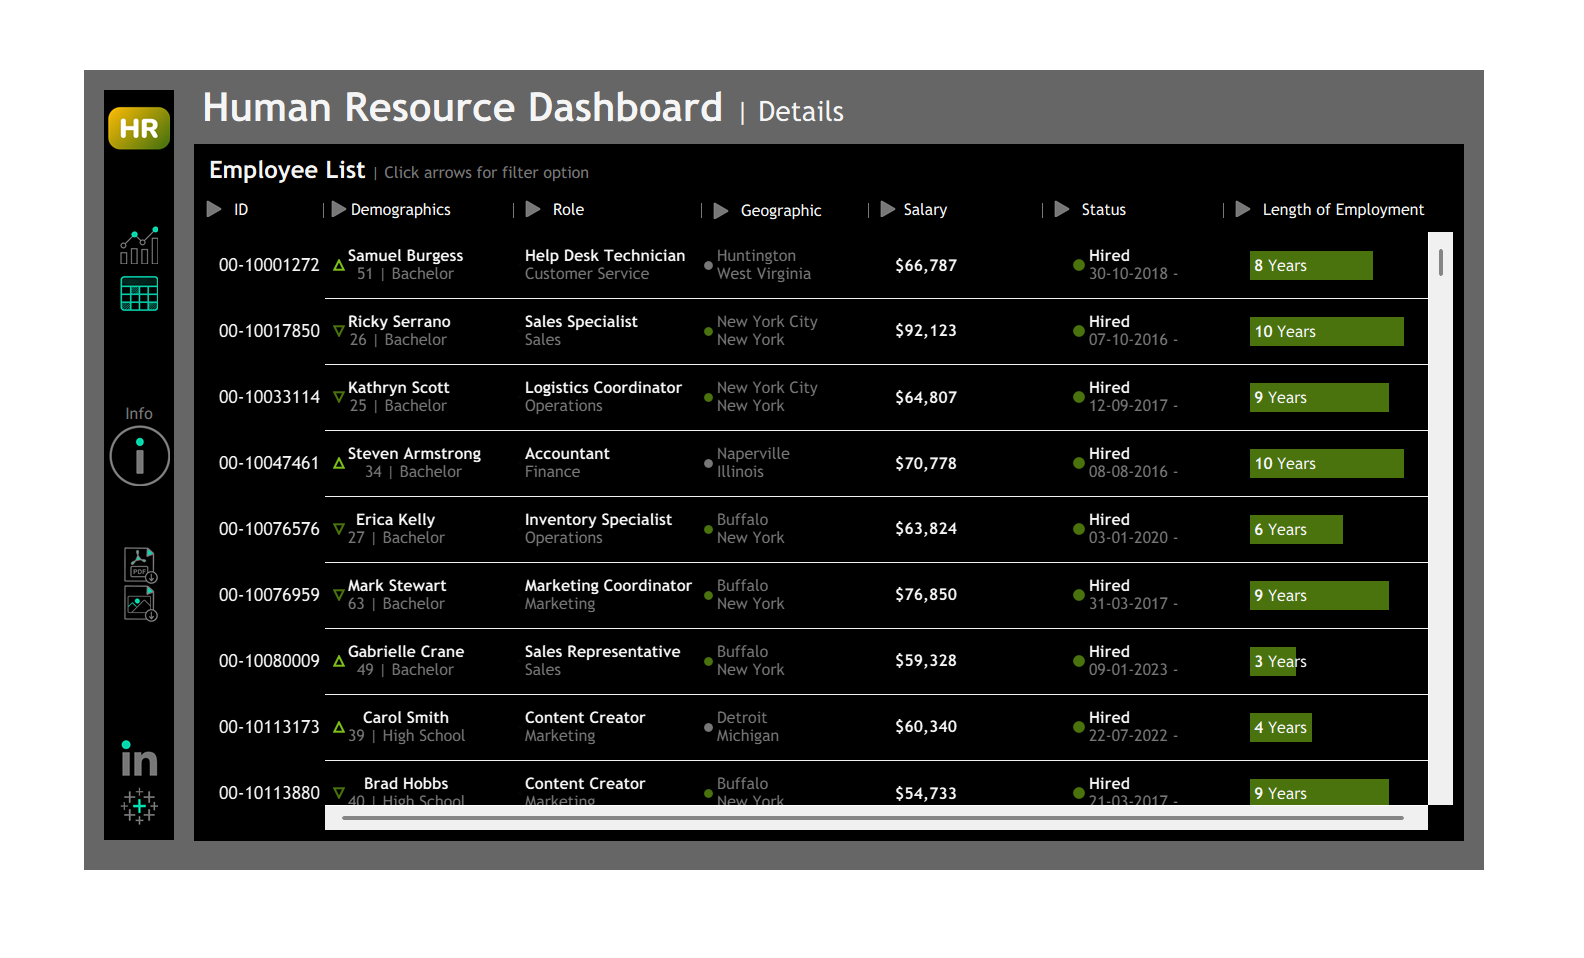

What the dashboard file says about the page in this screenshot:
{"tool":"tableau","page":{"name":"HR Details","canvas":[1400,800],"ordinal":1},"visuals":[{"type":"text","box":[110,0,823,73]},{"type":"blank","box":[933,0,447,73]},{"type":"image","param":"Image/croatia.png","box":[20,20,70,76]},{"type":"text","box":[117,81,1256,42]},{"type":"blank","box":[20,96,70,60]},{"type":"dashboard-object","box":[117,123,25,32]},{"type":"text","box":[142,123,91,32]},{"type":"blank","box":[233,123,13,195]},{"type":"dashboard-object","box":[246,123,17,32]},{"type":"text","box":[263,123,160,32]},{"type":"blank","box":[423,123,13,195]},{"type":"dashboard-object","box":[436,123,25,32]},{"type":"text","box":[461,123,150,32]},{"type":"blank","box":[611,123,13,195]},{"type":"dashboard-object","box":[624,123,25,35]},{"type":"text","box":[649,123,129,35]},{"type":"blank","box":[778,123,13,195]},{"type":"dashboard-object","box":[791,123,25,32]},{"type":"text","box":[816,123,136,32]},{"type":"blank","box":[952,123,13,195]},{"type":"dashboard-object","box":[965,123,25,32]},{"type":"text","box":[990,123,143,32]},{"type":"blank","box":[1133,123,13,195]},{"type":"dashboard-object","box":[1146,123,25,32]},{"type":"text","box":[1170.9,123,184,32]},{"type":"filter","title":"Detailed","param":"[federated.0q2gh4h1n235b5190az610rpepij].[none:Employee_ID:nk]","box":[117,155,116,64]},{"type":"filter","title":"Detailed","param":"[federated.0q2gh4h1n235b5190az610rpepij].[none:Calculation_1141585468923906:nk]","box":[246,155,177,64]},{"type":"filter","title":"Detailed","param":"[federated.0q2gh4h1n235b5190az610rpepij].[none:Department:nk]","box":[436,155,175,64]},{"type":"filter","title":"Detailed","param":"[federated.0q2gh4h1n235b5190az610rpepij].[sum:Salary:qk]","box":[791,155,161,71]},{"type":"filter","title":"Detailed","param":"[federated.0q2gh4h1n235b5190az610rpepij].[none:Calculation_1919764739563520:nk]","box":[965,155,168,64]},{"type":"filter","title":"Detailed","param":"[federated.0q2gh4h1n235b5190az610rpepij].[sum:Calculation_1141585477132291:qk]","box":[1146,155,209,71]},{"type":"dashboard-object","box":[20,156,70,38]},{"type":"filter","title":"Detailed","param":"[federated.0q2gh4h1n235b5190az610rpepij].[none:Calculation_1044828008271874:nk]","box":[624,158,154,32]},{"type":"filter","title":"Detailed","param":"[federated.0q2gh4h1n235b5190az610rpepij].[none:State:nk]","box":[624,190,154,64]},{"type":"blank","box":[20,194,70,10]},{"type":"dashboard-object","box":[20,204,70,38]},{"type":"filter","title":"Detailed","param":"[federated.0q2gh4h1n235b5190az610rpepij].[none:Gender:nk]","box":[246,219,177,64]},{"type":"filter","title":"Detailed","param":"[federated.0q2gh4h1n235b5190az610rpepij].[none:Job Title:nk]","box":[436,219,175,64]},{"type":"filter","title":"Detailed","param":"[federated.0q2gh4h1n235b5190az610rpepij].[none:Hiredate:ok]","box":[965,219,168,61]},{"type":"blank","box":[20,242,70,85]},{"type":"filter","title":"Detailed","param":"[federated.0q2gh4h1n235b5190az610rpepij].[none:City:nk]","box":[624,254,154,64]},{"type":"filter","title":"Detailed","param":"[federated.0q2gh4h1n235b5190az610rpepij].[none:Termdate:ok]","box":[965,280,168,64]},{"type":"filter","title":"Detailed","param":"[federated.0q2gh4h1n235b5190az610rpepij].[none:Calculation_0624264885260291:nk]","box":[246,283,177,64]},{"type":"worksheet","title":"Detailed","mark":"Shape","rows":["Employee_ID"],"cols":["Calculation_1141585468502017","Calculation_1141585468502017","Calculation_1141585468502017","Calculation_1141585468502017","Calculation_1141585468502017","Calculation_1141585477132291"],"box":[117,318,1256,446]},{"type":"text","box":[20,327,70,32]},{"type":"filter","title":"Detailed","param":"[federated.0q2gh4h1n235b5190az610rpepij].[none:Education Level:nk]","box":[246,347,177,64]},{"type":"dashboard-object","box":[25,348,61,75]},{"type":"blank","box":[20,359,70,107]},{"type":"dashboard-object","box":[30,476,50,38]},{"type":"dashboard-object","box":[30,514,50,38]},{"type":"blank","box":[30,552,50,117]},{"type":"image","param":"Image/contact-linkedin.png","box":[30,669,50,38]},{"type":"image","param":"Image/contact-public.png","box":[20,717,70,38]}]}

Visuals, with their boxes on the page's 1400x800 design canvas (x1, y1, x2, y2). These are canvas units, not pixel positions in the 1584x958 screenshot, which may show the page scaled, cropped or inside an application window:
text: box=[110, 0, 933, 73]
blank: box=[933, 0, 1380, 73]
image: box=[20, 20, 90, 96]
text: box=[117, 81, 1373, 123]
blank: box=[20, 96, 90, 156]
dashboard-object: box=[117, 123, 142, 155]
text: box=[142, 123, 233, 155]
blank: box=[233, 123, 246, 318]
dashboard-object: box=[246, 123, 263, 155]
text: box=[263, 123, 423, 155]
blank: box=[423, 123, 436, 318]
dashboard-object: box=[436, 123, 461, 155]
text: box=[461, 123, 611, 155]
blank: box=[611, 123, 624, 318]
dashboard-object: box=[624, 123, 649, 158]
text: box=[649, 123, 778, 158]
blank: box=[778, 123, 791, 318]
dashboard-object: box=[791, 123, 816, 155]
text: box=[816, 123, 952, 155]
blank: box=[952, 123, 965, 318]
dashboard-object: box=[965, 123, 990, 155]
text: box=[990, 123, 1133, 155]
blank: box=[1133, 123, 1146, 318]
dashboard-object: box=[1146, 123, 1171, 155]
text: box=[1171, 123, 1355, 155]
"Detailed" filter: box=[117, 155, 233, 219]
"Detailed" filter: box=[246, 155, 423, 219]
"Detailed" filter: box=[436, 155, 611, 219]
"Detailed" filter: box=[791, 155, 952, 226]
"Detailed" filter: box=[965, 155, 1133, 219]
"Detailed" filter: box=[1146, 155, 1355, 226]
dashboard-object: box=[20, 156, 90, 194]
"Detailed" filter: box=[624, 158, 778, 190]
"Detailed" filter: box=[624, 190, 778, 254]
blank: box=[20, 194, 90, 204]
dashboard-object: box=[20, 204, 90, 242]
"Detailed" filter: box=[246, 219, 423, 283]
"Detailed" filter: box=[436, 219, 611, 283]
"Detailed" filter: box=[965, 219, 1133, 280]
blank: box=[20, 242, 90, 327]
"Detailed" filter: box=[624, 254, 778, 318]
"Detailed" filter: box=[965, 280, 1133, 344]
"Detailed" filter: box=[246, 283, 423, 347]
"Detailed" worksheet (Shape marks): box=[117, 318, 1373, 764]
text: box=[20, 327, 90, 359]
"Detailed" filter: box=[246, 347, 423, 411]
dashboard-object: box=[25, 348, 86, 423]
blank: box=[20, 359, 90, 466]
dashboard-object: box=[30, 476, 80, 514]
dashboard-object: box=[30, 514, 80, 552]
blank: box=[30, 552, 80, 669]
image: box=[30, 669, 80, 707]
image: box=[20, 717, 90, 755]
